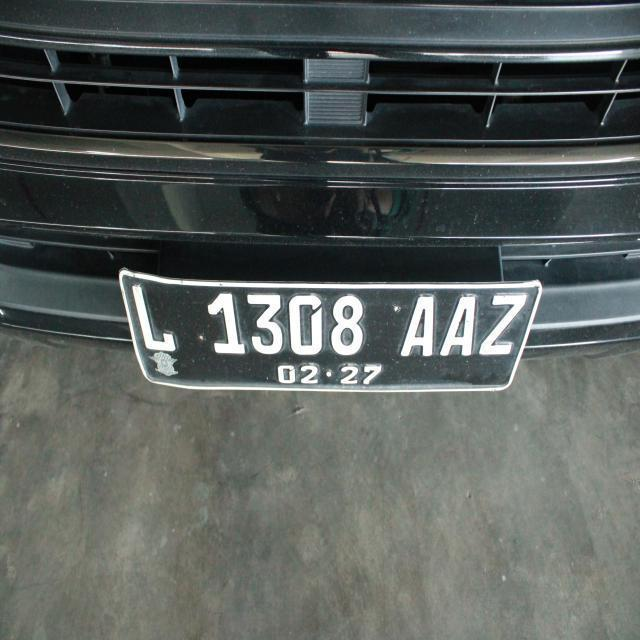0: (288, 291, 324, 362)
1: (200, 281, 253, 373)
3: (242, 284, 288, 368)
8: (328, 288, 368, 359)
A: (438, 288, 478, 364), (400, 286, 436, 366)
L: (120, 268, 181, 378)
Z: (478, 289, 528, 372)
